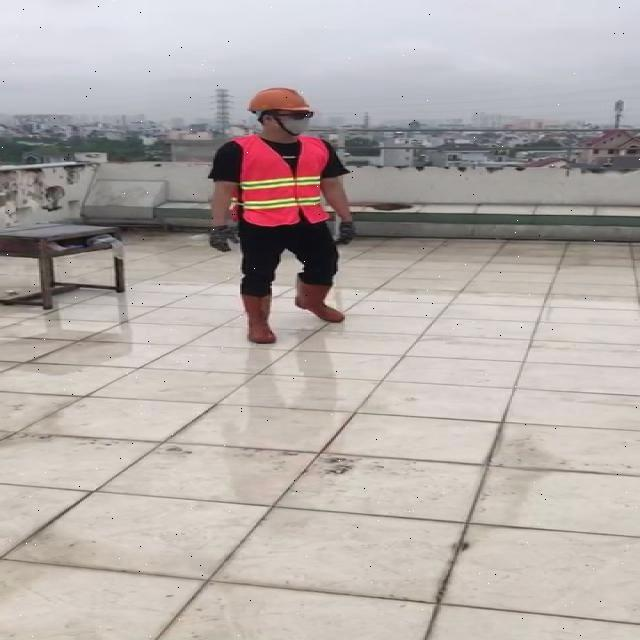Hard_hat: (243, 84, 320, 121)
Vest: (233, 131, 328, 230)
